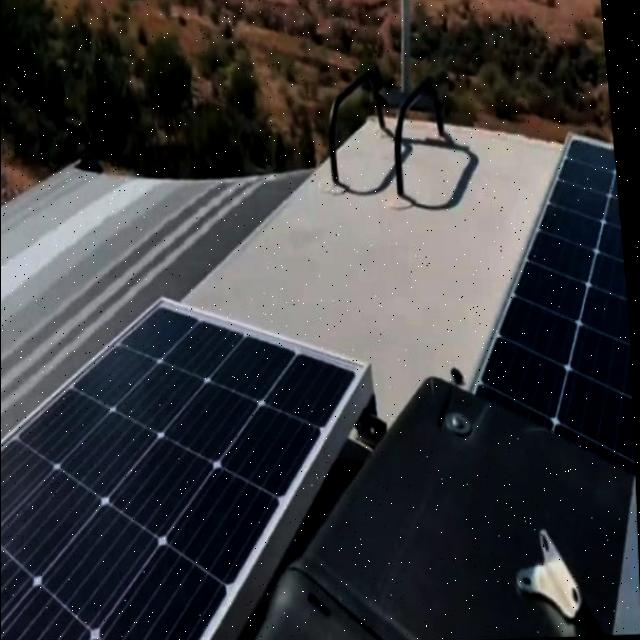Normal Solar Panel: (0, 290, 390, 640), (449, 130, 636, 492)
